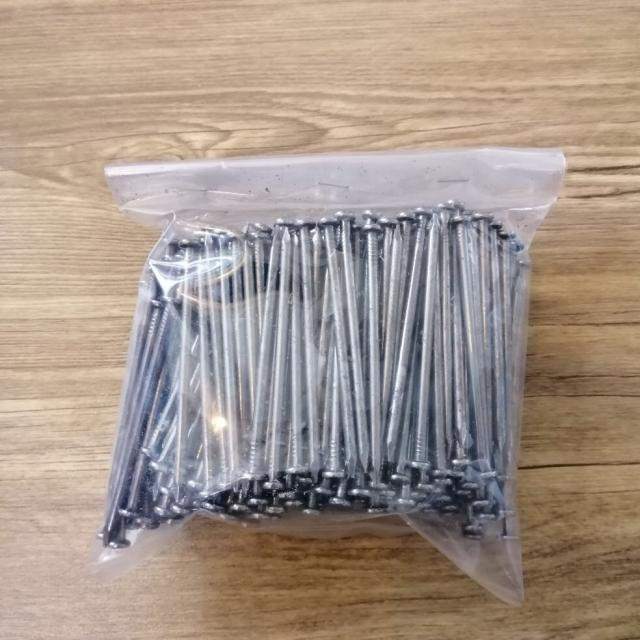3x10 nail: (436, 196, 520, 546), (318, 203, 386, 488)
